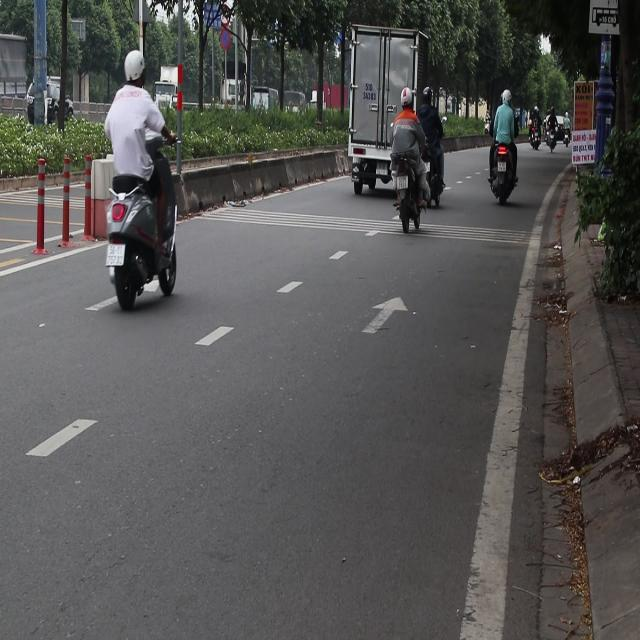motorbike: (104, 154, 180, 310), (392, 135, 421, 273), (416, 102, 434, 225), (487, 140, 518, 205), (545, 124, 564, 151), (530, 122, 546, 151), (559, 126, 571, 147)
truck: (341, 26, 423, 199), (0, 33, 32, 122), (158, 72, 196, 122), (251, 89, 280, 128)
